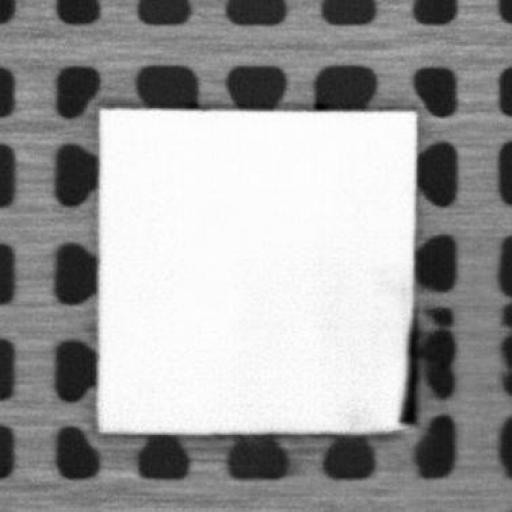DIE_BROKEN: (396, 314, 418, 426)
